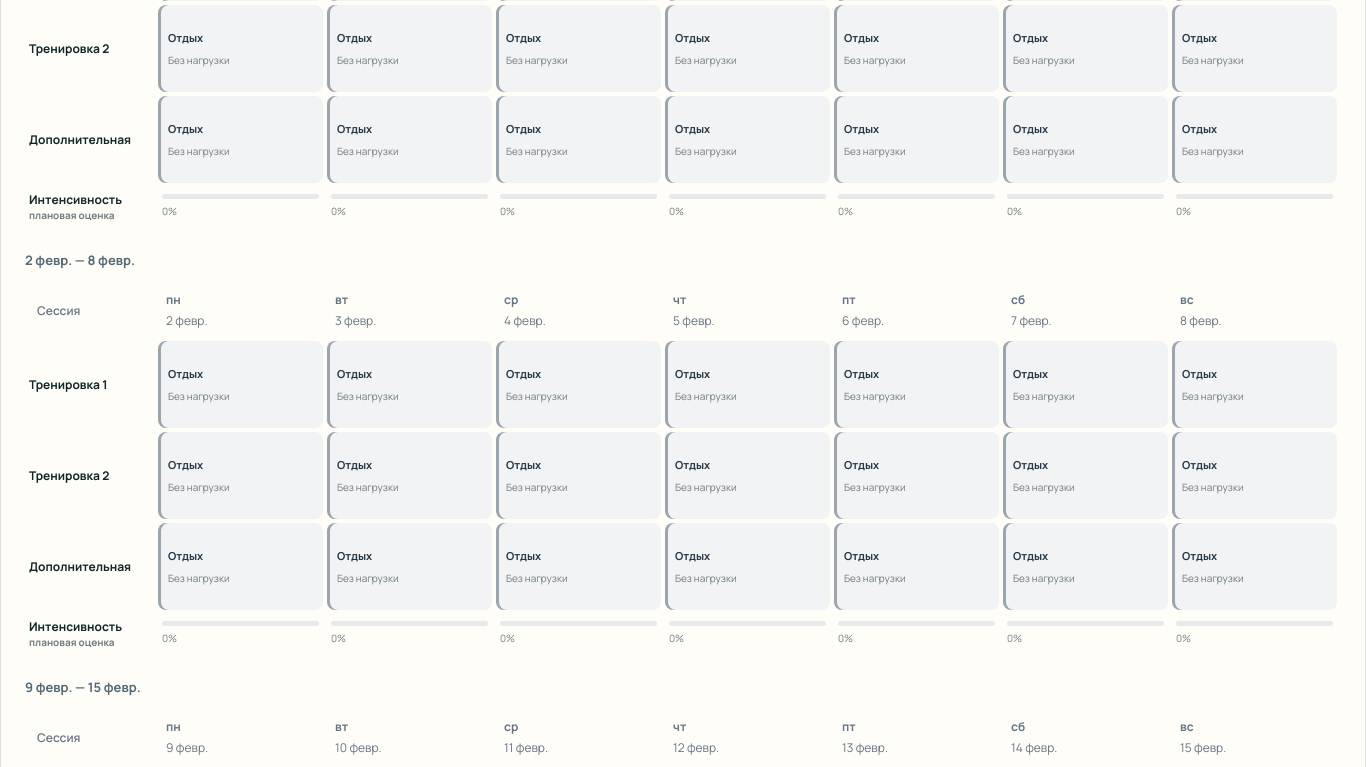
Scenario: training workspace › plans a session and persists it with the concurrency version
(page scrolled)
Click the button with aria-label "Тренировка 1, 4 февр.: Отдых" at [578, 384], box [496,341,661,428]
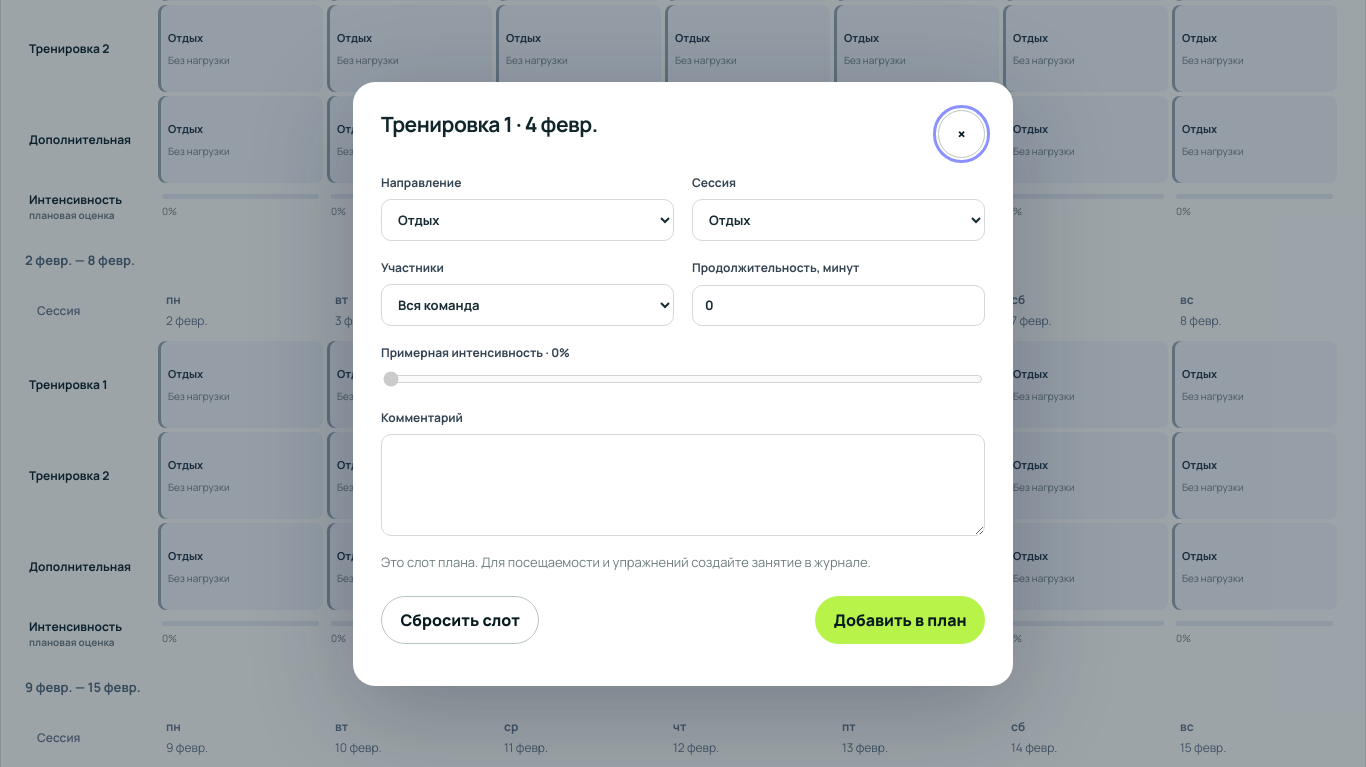
Select "Стандарты" in the dropdown labelled "Направление" at [528, 220], box [381,199,674,241]
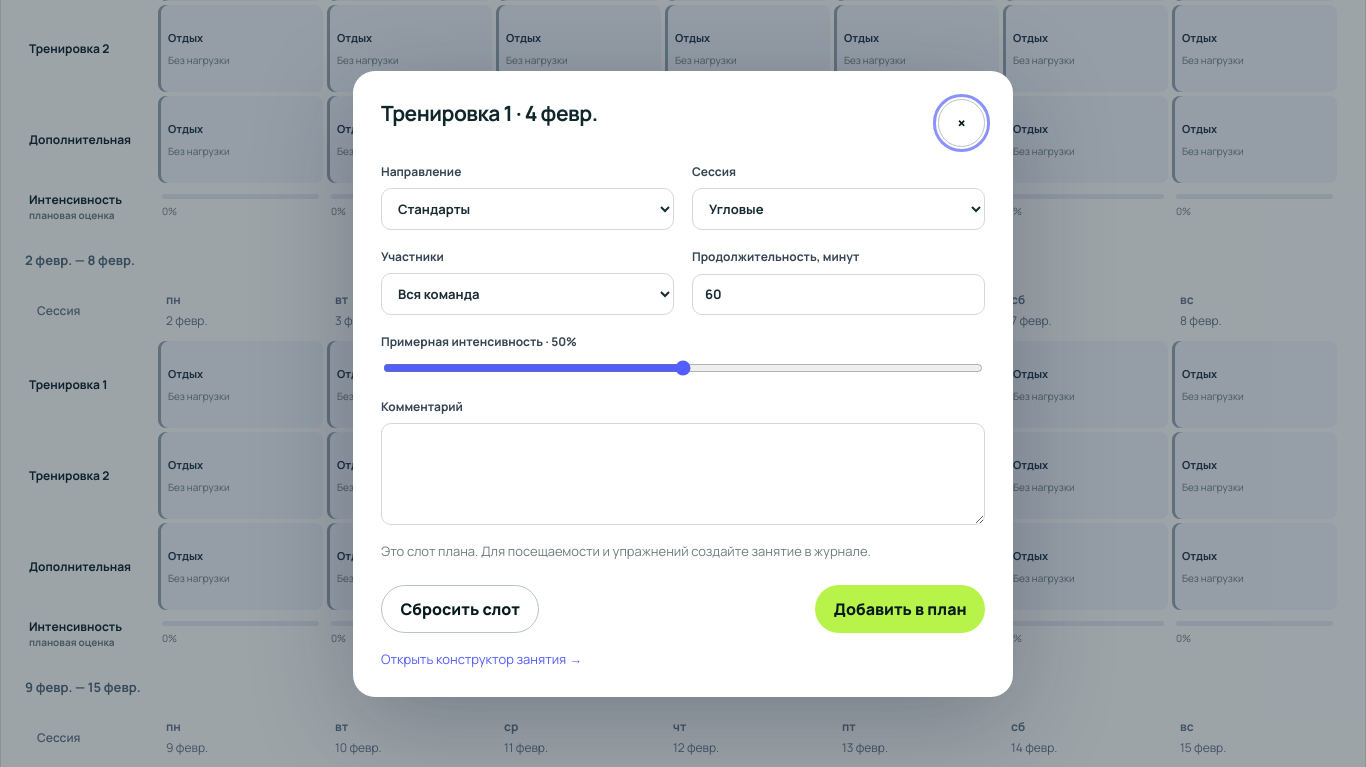
Select "Угловые" in the dropdown labelled "Сессия" at [838, 209], box [692,188,985,230]
Click the button "Добавить в план" at [900, 609], box [816,585,985,633]
(page scrolled)
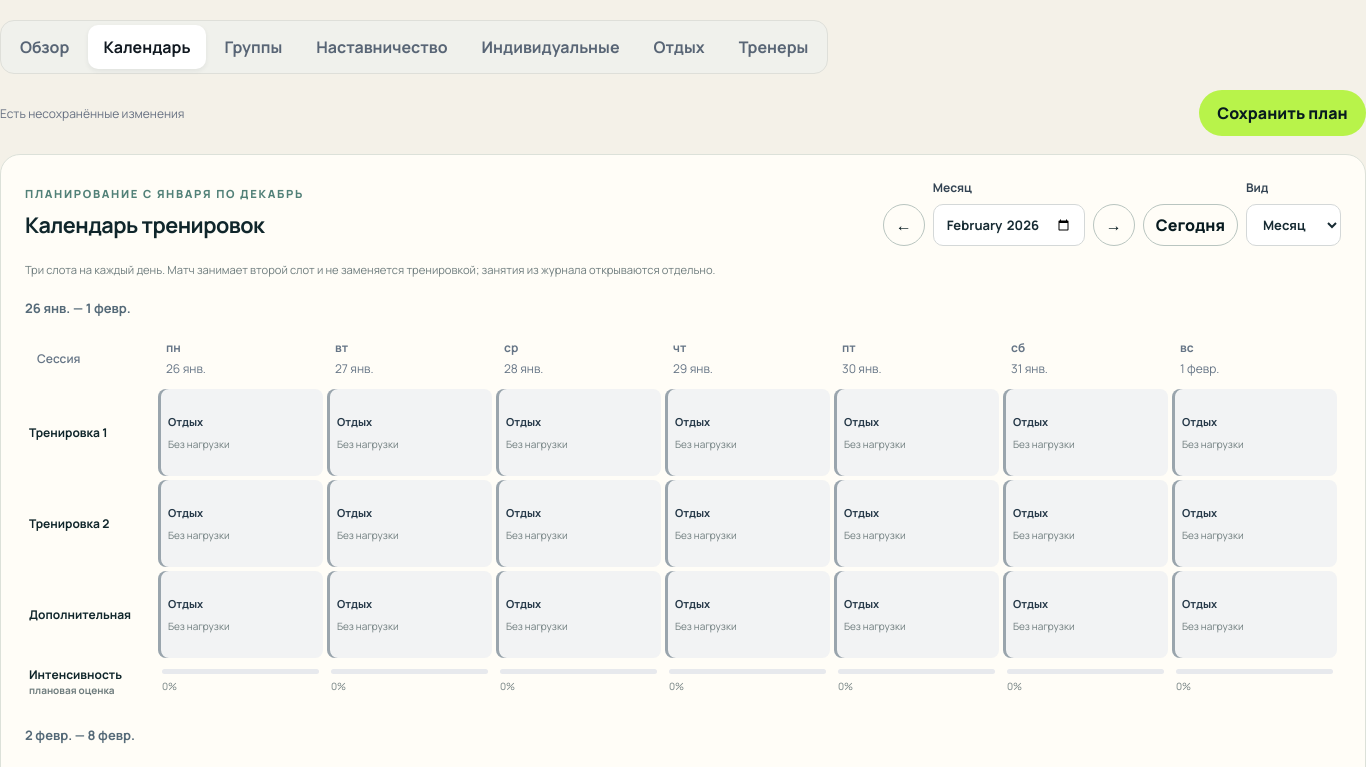
Click the button "Сохранить план" at [1282, 113], box [1199,90,1365,136]
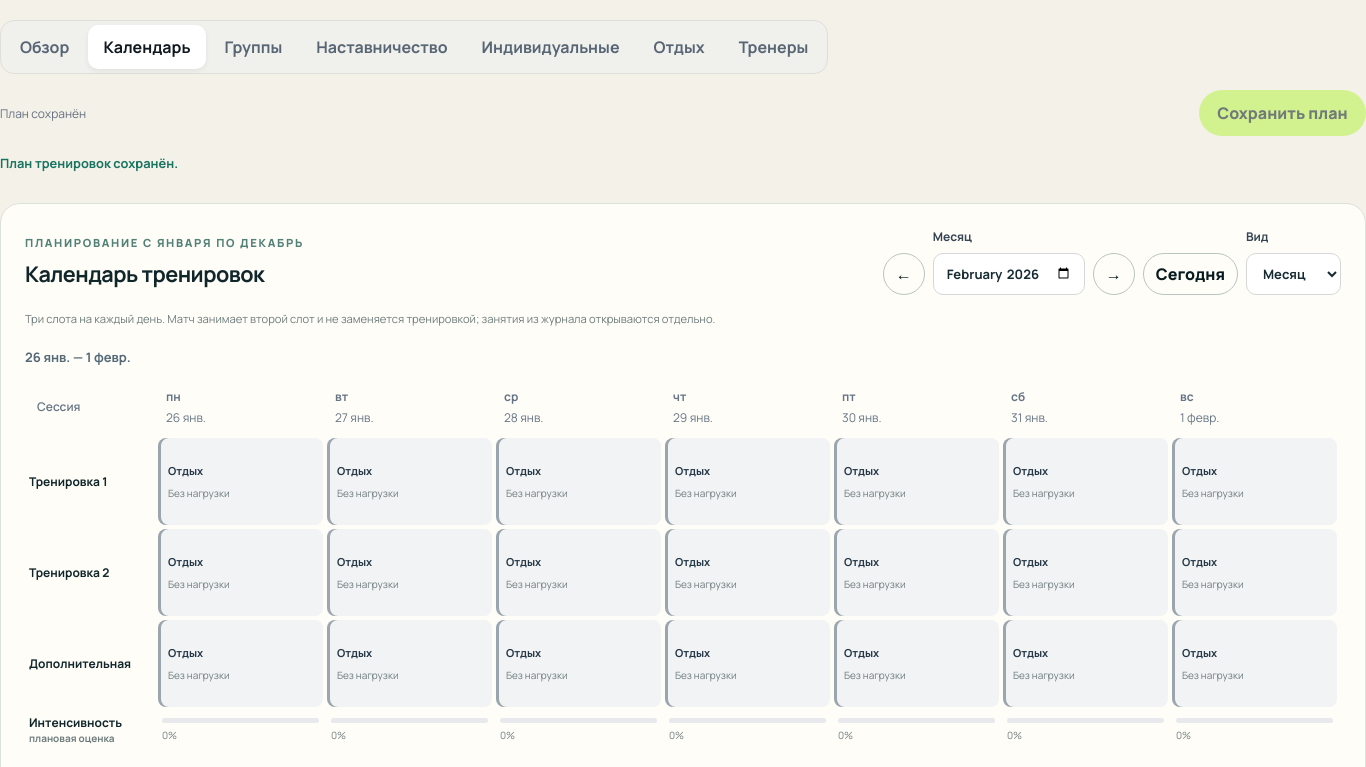
Check: the text "План тренировок сохранён." is shown, box [0,154,178,172]
